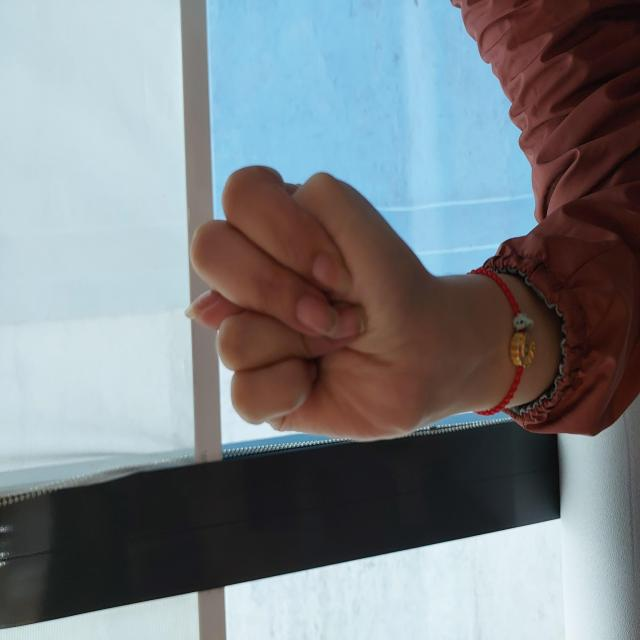N: (196, 181, 474, 437)
